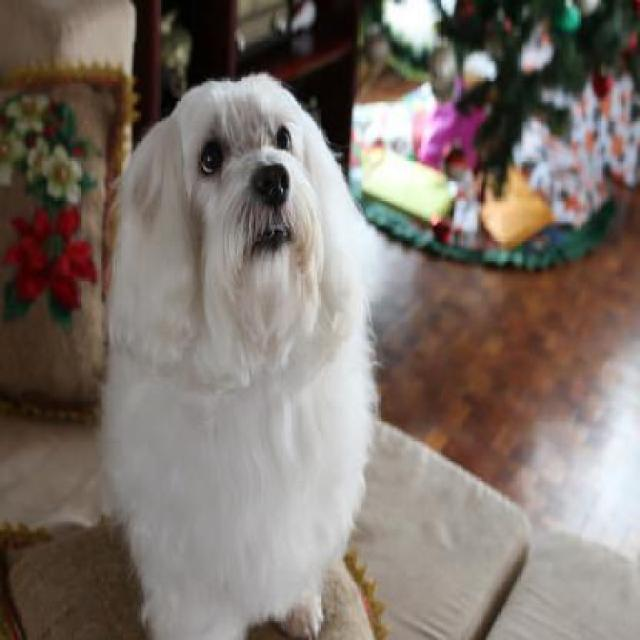Dog: (103, 76, 375, 638)
